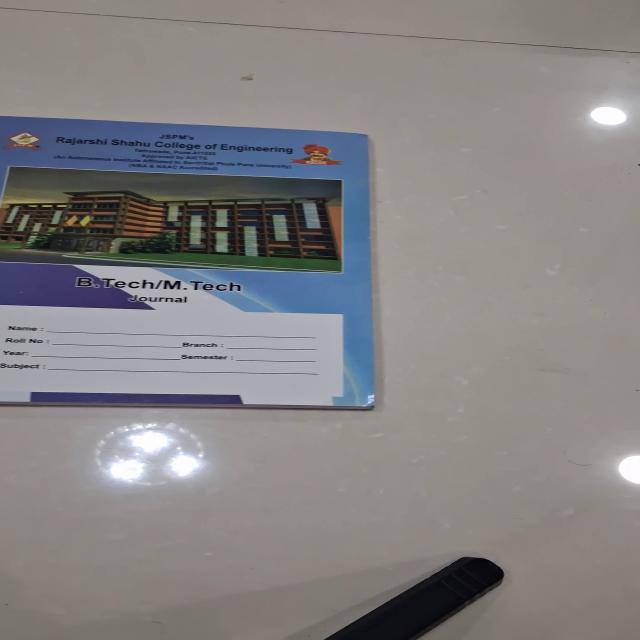paper: (1, 115, 376, 409)
